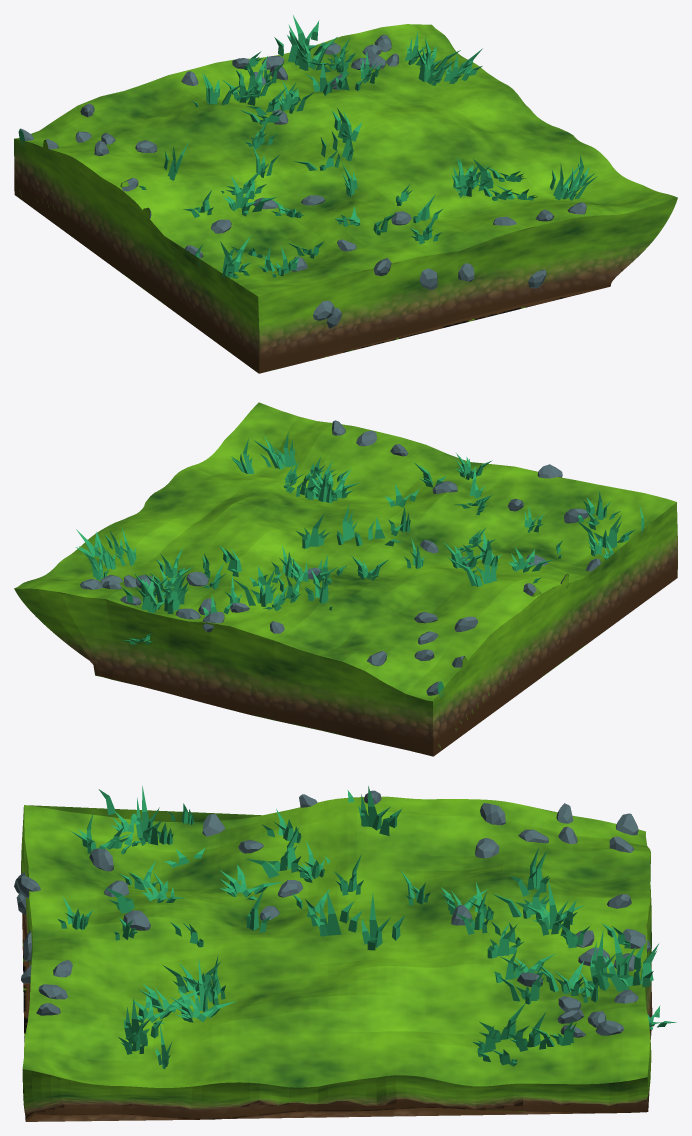
The model's file is re_upper_right.fbx.
The picture shows the model from 3 angles, top to bottom: view 1: azimuth 30°, elevation 25°; view 2: azimuth 150°, elevation 25°; view 3: azimuth 270°, elevation 25°; orthographic projection. The views are drawn at different scales.
Parts seen in each view (by area): view 1: right edge; view 2: right edge; view 3: right edge.
Boxes of the visible parts, box(x1,y1,x2,y2) form: right edge: box(14, 15, 677, 373); right edge: box(14, 402, 677, 756); right edge: box(14, 785, 676, 1121).
Bounding box in the file's own units: 597 × 159 × 641.
